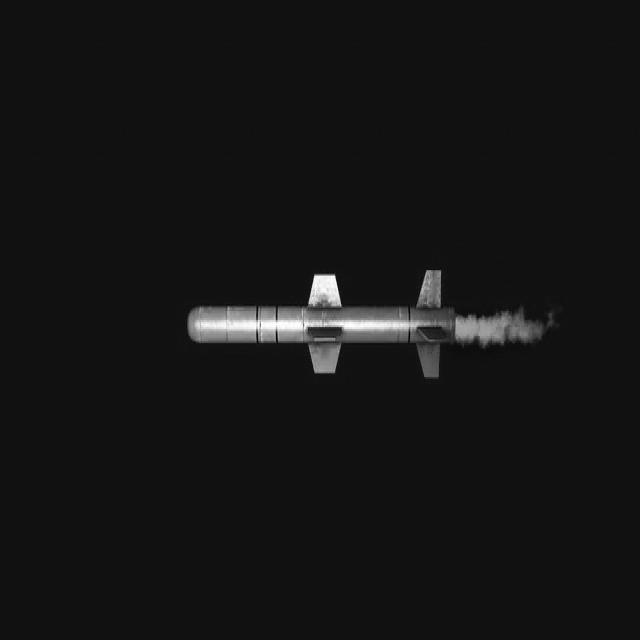missile: (183, 260, 453, 384)
